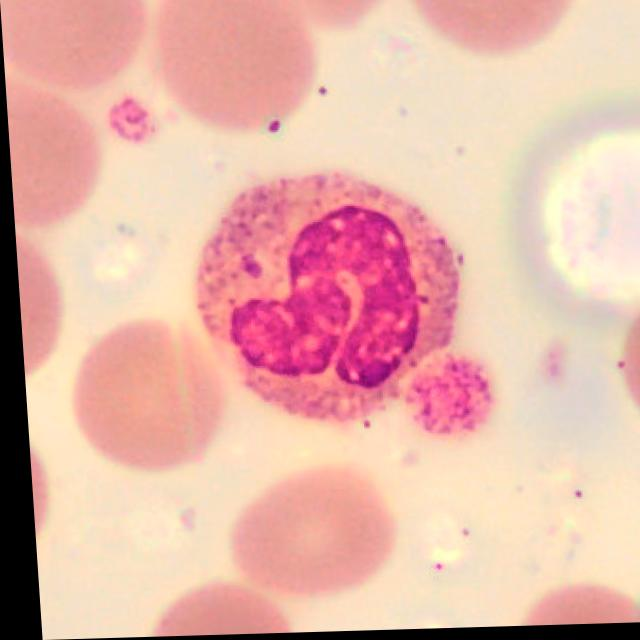Bastonete: (191, 174, 461, 430)
